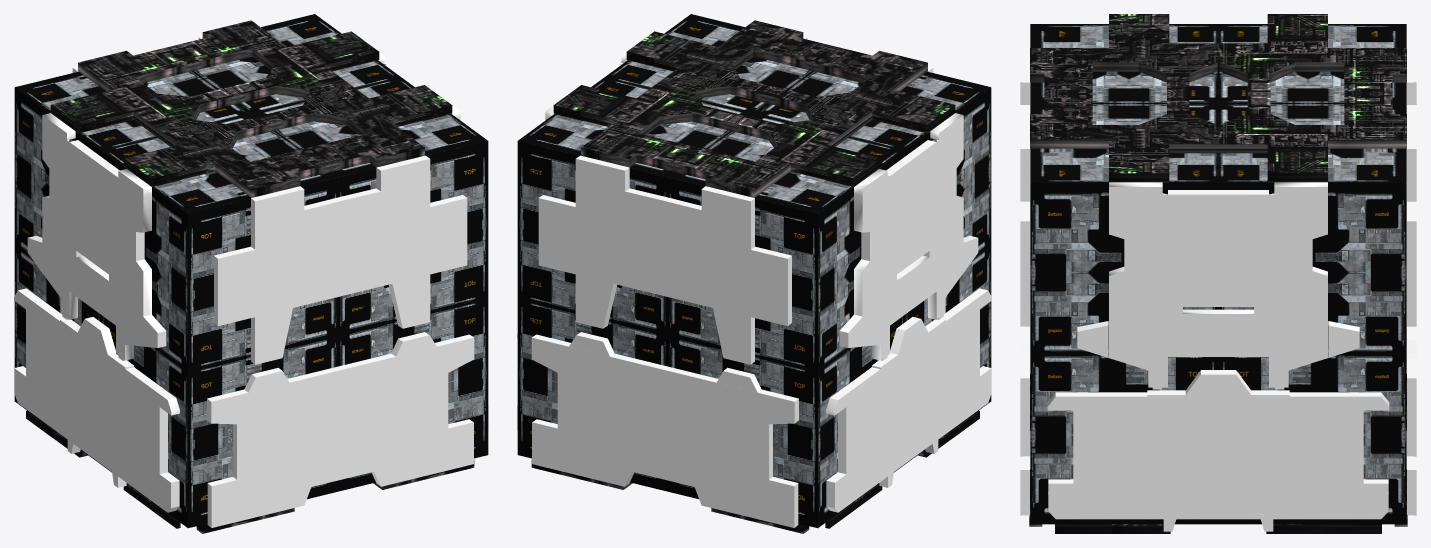
The model's file is Borg_TacticalCube.fbx.
The picture shows the model from 3 angles, left to right: view 1: azimuth 30°, elevation 25°; view 2: azimuth 150°, elevation 25°; view 3: azimuth 270°, elevation 25°; orthographic projection. The views are drawn at different scales.
Parts seen in each view (by area): view 1: Borg_TacticalCube; view 2: Borg_TacticalCube; view 3: Borg_TacticalCube.
Part boxes in pixels (x1,y1,x2,y2): Borg_TacticalCube: [14, 14, 488, 533]; Borg_TacticalCube: [517, 14, 991, 533]; Borg_TacticalCube: [1020, 14, 1416, 533].
Size of the model in its own units: 1131 by 1130 by 1126.
1 material, 1 textured.
